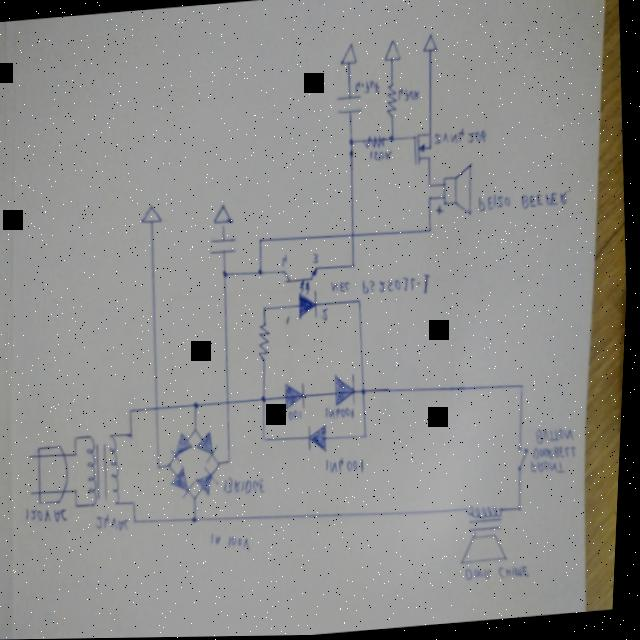capacitor: (210, 237, 240, 258), (336, 95, 364, 117)
crossover: (157, 403, 164, 414), (351, 233, 358, 242), (228, 399, 235, 407)
diode: (173, 465, 200, 502), (336, 372, 361, 407), (198, 431, 223, 465), (199, 467, 224, 497), (286, 381, 311, 411), (174, 434, 198, 463), (310, 424, 332, 453)
ground: (382, 39, 403, 65), (213, 204, 236, 227), (339, 42, 360, 67), (141, 205, 165, 225), (421, 34, 439, 55)
junction: (347, 137, 356, 148), (388, 134, 397, 144), (223, 270, 232, 279), (427, 227, 436, 236), (263, 395, 271, 405), (195, 400, 203, 410), (169, 461, 177, 471), (362, 389, 370, 397), (264, 436, 272, 444), (365, 432, 372, 441), (195, 495, 202, 504), (259, 269, 266, 277), (229, 459, 236, 467), (132, 432, 139, 440), (131, 408, 138, 416), (76, 435, 83, 443), (196, 516, 203, 524), (521, 507, 528, 515), (522, 385, 529, 393), (159, 463, 166, 471), (428, 196, 435, 204), (76, 450, 82, 458), (77, 489, 83, 497), (428, 183, 434, 191), (78, 503, 84, 510), (259, 239, 265, 245), (352, 263, 358, 269), (359, 300, 365, 306), (264, 306, 269, 313), (196, 428, 201, 435), (220, 461, 225, 468), (137, 519, 142, 525), (135, 501, 139, 507)
resistor: (258, 324, 276, 363), (385, 84, 399, 119), (362, 135, 388, 150)
switch: (517, 446, 534, 474)
terminal: (30, 451, 39, 462), (32, 489, 41, 498)
text: (331, 273, 435, 304), (477, 190, 575, 215), (469, 565, 535, 584), (226, 472, 273, 497), (435, 127, 488, 148), (214, 530, 255, 555), (28, 504, 73, 525), (327, 456, 369, 477), (535, 445, 581, 463), (537, 427, 577, 446), (99, 514, 135, 534), (533, 460, 570, 476), (271, 407, 308, 423), (327, 406, 359, 422), (353, 80, 381, 97), (368, 149, 394, 164), (397, 88, 421, 104), (282, 253, 292, 269), (312, 252, 322, 266), (323, 308, 332, 323), (286, 314, 295, 328)
transformer: (87, 431, 128, 509)
transistor: (411, 131, 436, 169)
